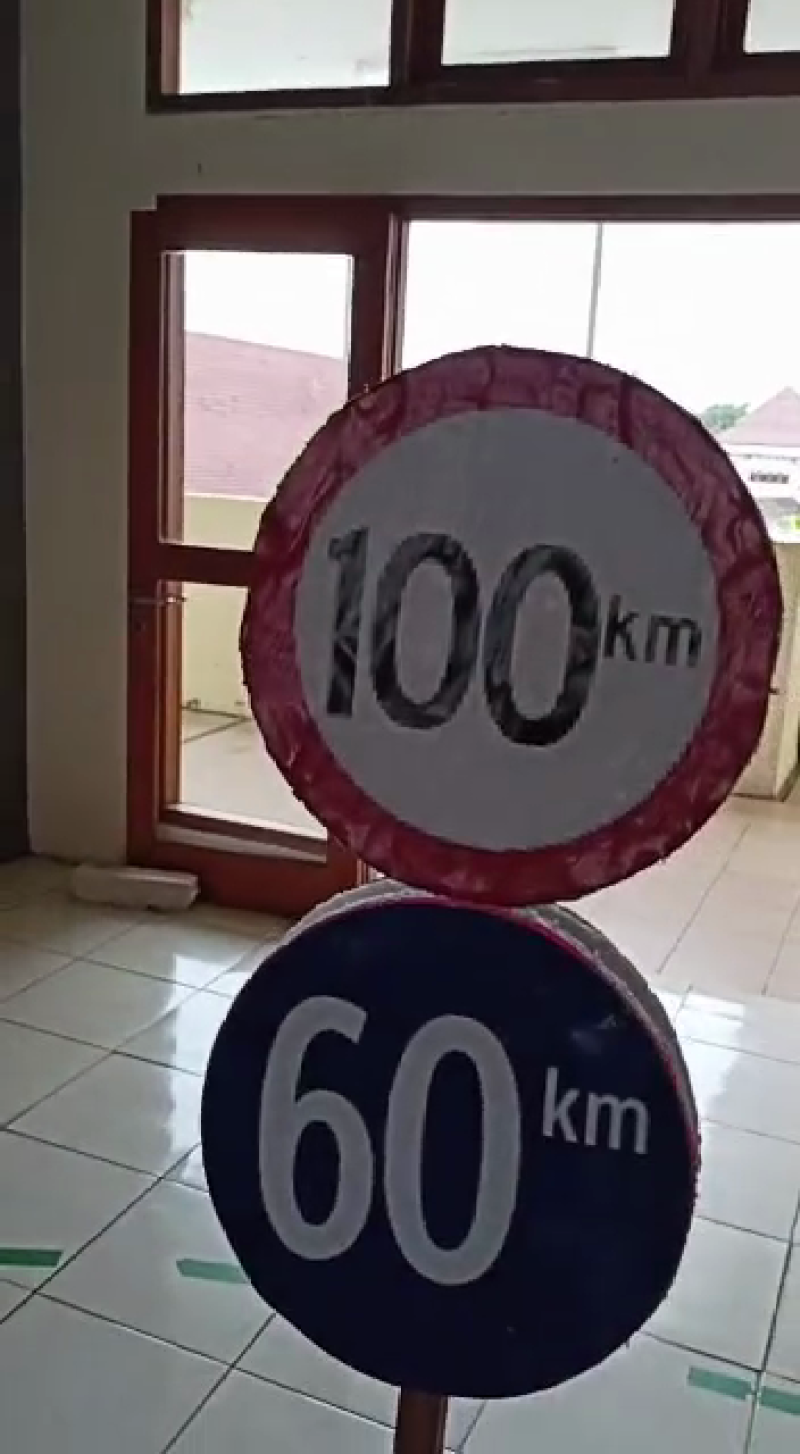batas maksimal 100kmperjam minimal 60kmperjam: (188, 325, 800, 1402)
